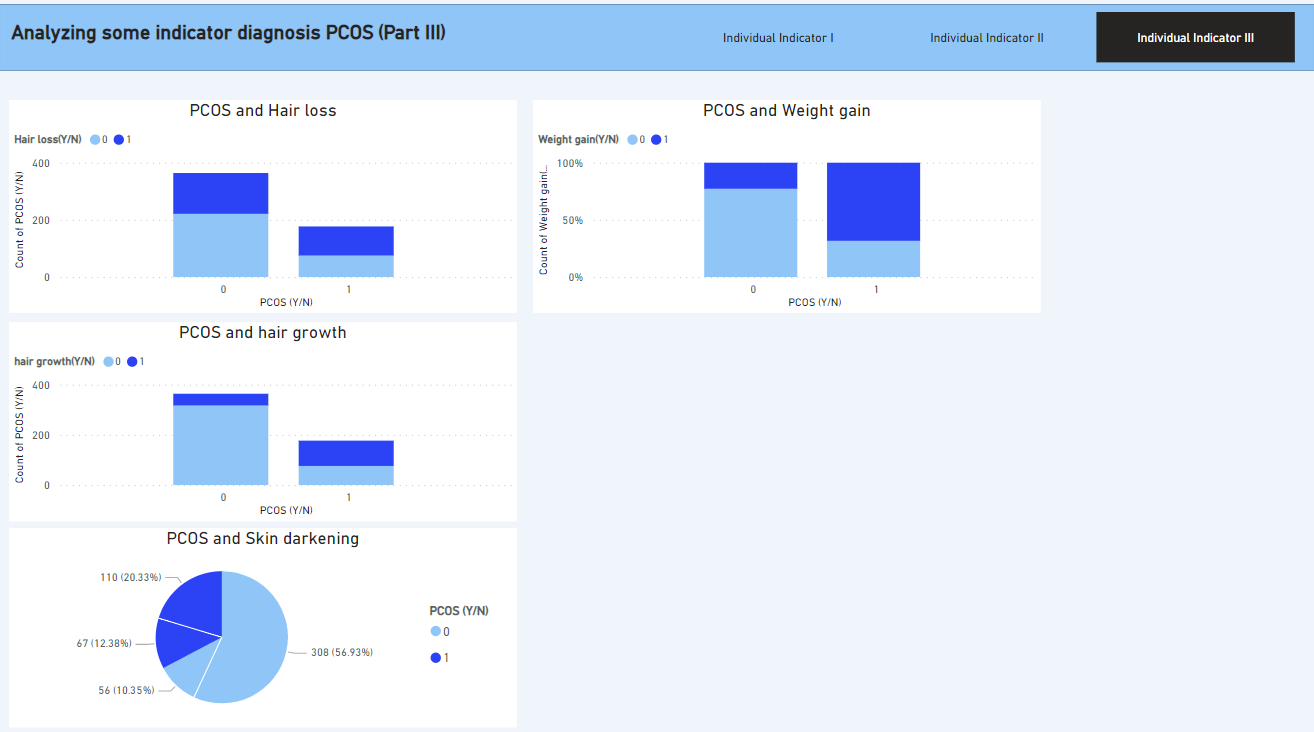

The dashboard page shown, as its layout file describes it:
{"tool":"powerbi","page":{"name":"Individual Indicator III","canvas":[1280,720],"ordinal":2},"visuals":[{"type":"columnChart","title":"PCOS and Hair loss","fields":{"Category":["Table 3 (Full_new).PCOS (Y/N)"],"Series":["Table 3 (Full_new).Hair loss(Y/N)"],"Y":["CountNonNull(Table 3 (Full_new).PCOS (Y/N))"]},"box":[9.7,103.1,494.1,207.2],"z":0},{"type":"columnChart","title":"PCOS and hair growth","fields":{"Category":["Table 3 (Full_new).PCOS (Y/N)"],"Y":["CountNonNull(Table 3 (Full_new).PCOS (Y/N))"],"Series":["Table 3 (Full_new).hair growth(Y/N)"]},"box":[9.7,319,494.1,193.6],"z":1000},{"type":"pieChart","title":"PCOS and Skin darkening","fields":{"Category":["Table 3 (Full_new).PCOS (Y/N)"],"Y":["CountNonNull(Table 3 (Full_new).Skin darkening (Y/N))"],"Series":["Table 3 (Full_new).Skin darkening (Y/N)"]},"box":[9.7,519.4,494.1,193.6],"z":2000},{"type":"hundredPercentStackedColumnChart","title":"PCOS and Weight gain","fields":{"Category":["Table 3 (Full_new).PCOS (Y/N)"],"Y":["CountNonNull(Table 3 (Full_new).Weight gain(Y/N))"],"Series":["Table 3 (Full_new).Weight gain(Y/N)"]},"box":[519.4,103.1,494.1,207.2],"z":2001},{"type":"shape","box":[0,9.7,1280,65.2],"z":2002},{"type":"textbox","box":[6.8,20.4,470.8,44.7],"z":2003},{"type":"pageNavigator","box":[661.4,17.5,600.1,49.6],"z":2004}]}

Visuals, with their boxes in screenshot pixels (x1, y1, x2, y2), scaled from the page's 1280x720 canvas onto the 1314x732 screenshot:
"PCOS and Hair loss" columnChart: 10,105,517,315
"PCOS and hair growth" columnChart: 10,324,517,521
"PCOS and Skin darkening" pieChart: 10,528,517,725
"PCOS and Weight gain" hundredPercentStackedColumnChart: 533,105,1040,315
shape: 0,10,1313,76
textbox: 7,21,490,66
pageNavigator: 679,18,1295,68
